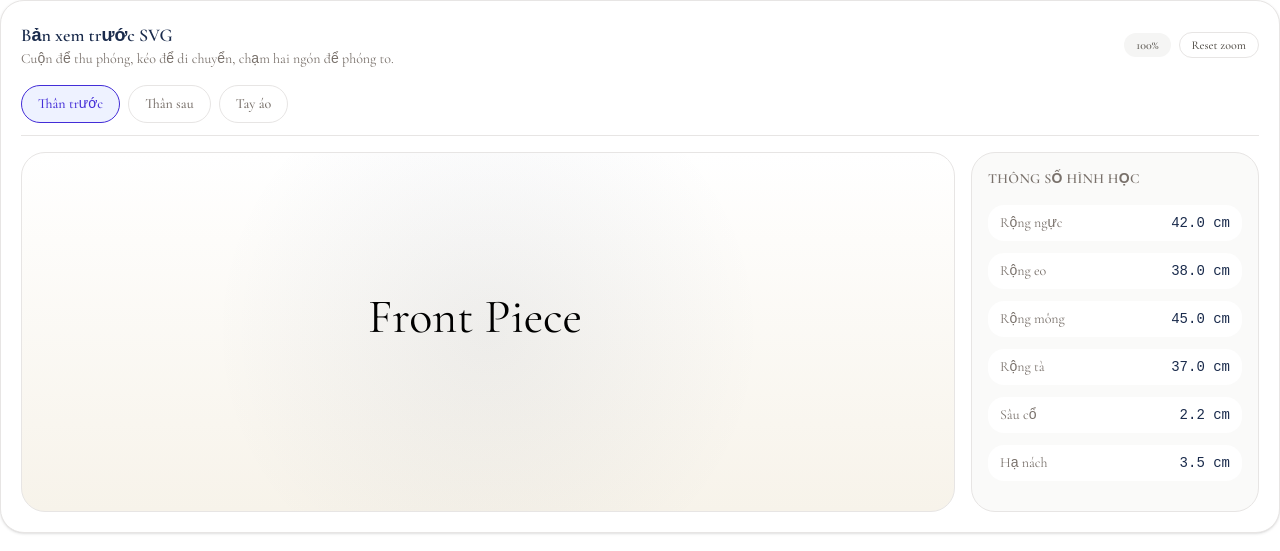
PatternPreview › switches displayed SVG when piece tab changes
This screenshot has width=1280, height=551.
Click the button "Thân sau" at (169, 104), box [128,85,211,123]
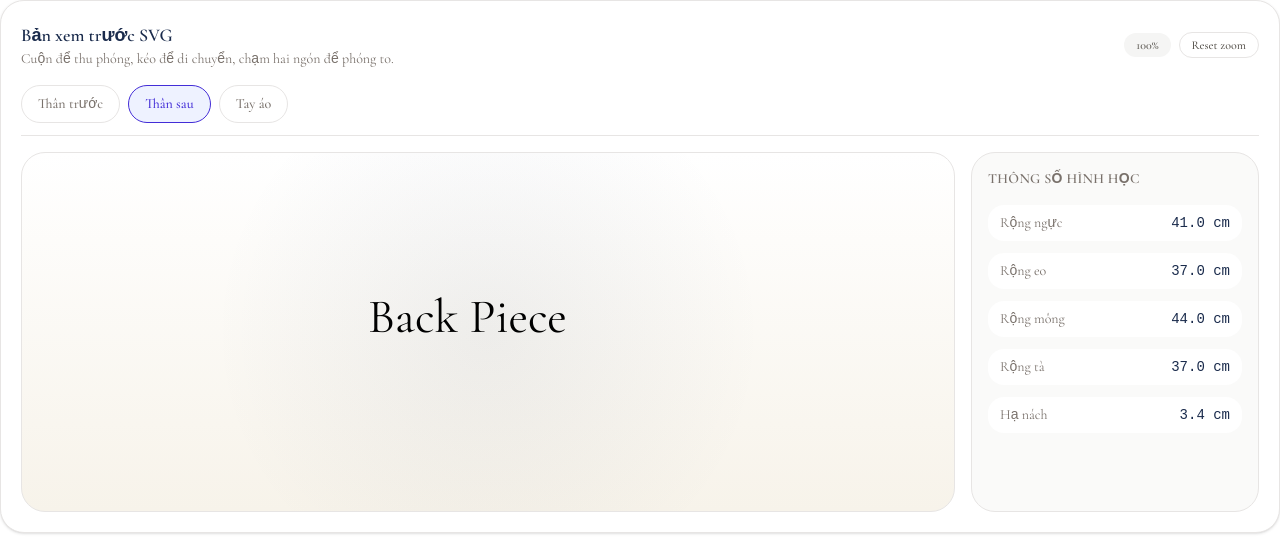
Check: the text "Back Piece" is shown, box [368,288,567,346]
Check: the icon "Front Piece" is gone
